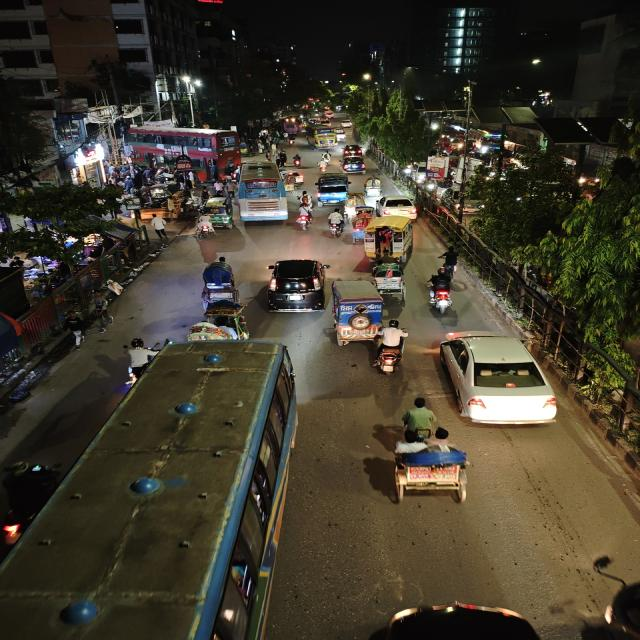bus: (5, 338, 302, 640), (127, 126, 240, 168), (232, 164, 290, 226), (310, 127, 341, 149)
car: (436, 329, 559, 430), (264, 257, 330, 317), (314, 172, 353, 205), (376, 194, 419, 219), (339, 156, 368, 173), (341, 144, 365, 158)
human_hauler: (362, 213, 410, 260)
motorcycle: (370, 320, 411, 378), (423, 268, 458, 316), (323, 206, 349, 238), (436, 246, 464, 274), (193, 213, 216, 240), (295, 203, 315, 233), (316, 153, 333, 173), (291, 152, 304, 168), (276, 152, 287, 168)
pedestrian: (120, 336, 154, 386), (62, 310, 90, 350), (436, 246, 464, 274), (93, 306, 111, 334)
rickshaw: (376, 422, 484, 506), (326, 278, 385, 348), (202, 298, 250, 340), (197, 259, 238, 306), (370, 256, 408, 296), (200, 197, 233, 229), (350, 205, 375, 243), (362, 176, 384, 199), (285, 170, 305, 190)
